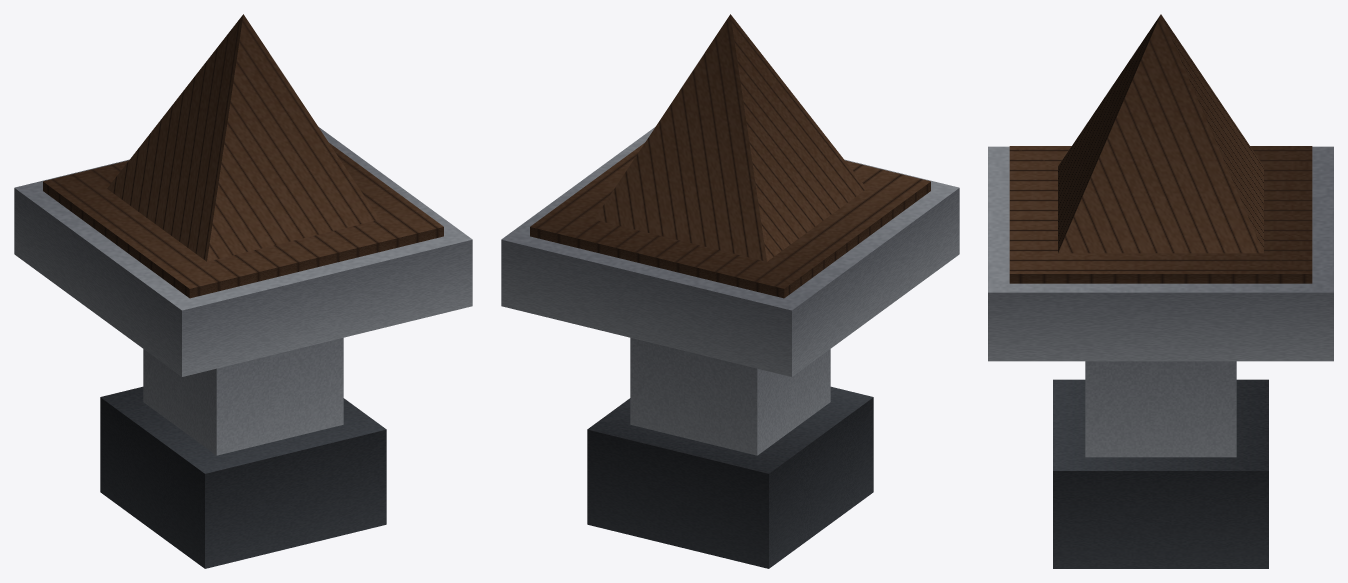
The model's file is brazier_fire.gltf.
3 renders of one model, left to right at view 1: azimuth 30°, elevation 25°; view 2: azimuth 150°, elevation 25°; view 3: azimuth 270°, elevation 25°, orthographic. The views are drawn at different scales.
Visible parts, largest first — view 1: brazier_fire; view 2: brazier_fire; view 3: brazier_fire.
Boxes of the visible parts, bbox=[...] form: brazier_fire: bbox=[14, 14, 472, 568]; brazier_fire: bbox=[501, 14, 959, 568]; brazier_fire: bbox=[988, 14, 1333, 568].
Size of the model in its own units: 1.6 by 2.6 by 1.6.
1 material, 1 textured.
